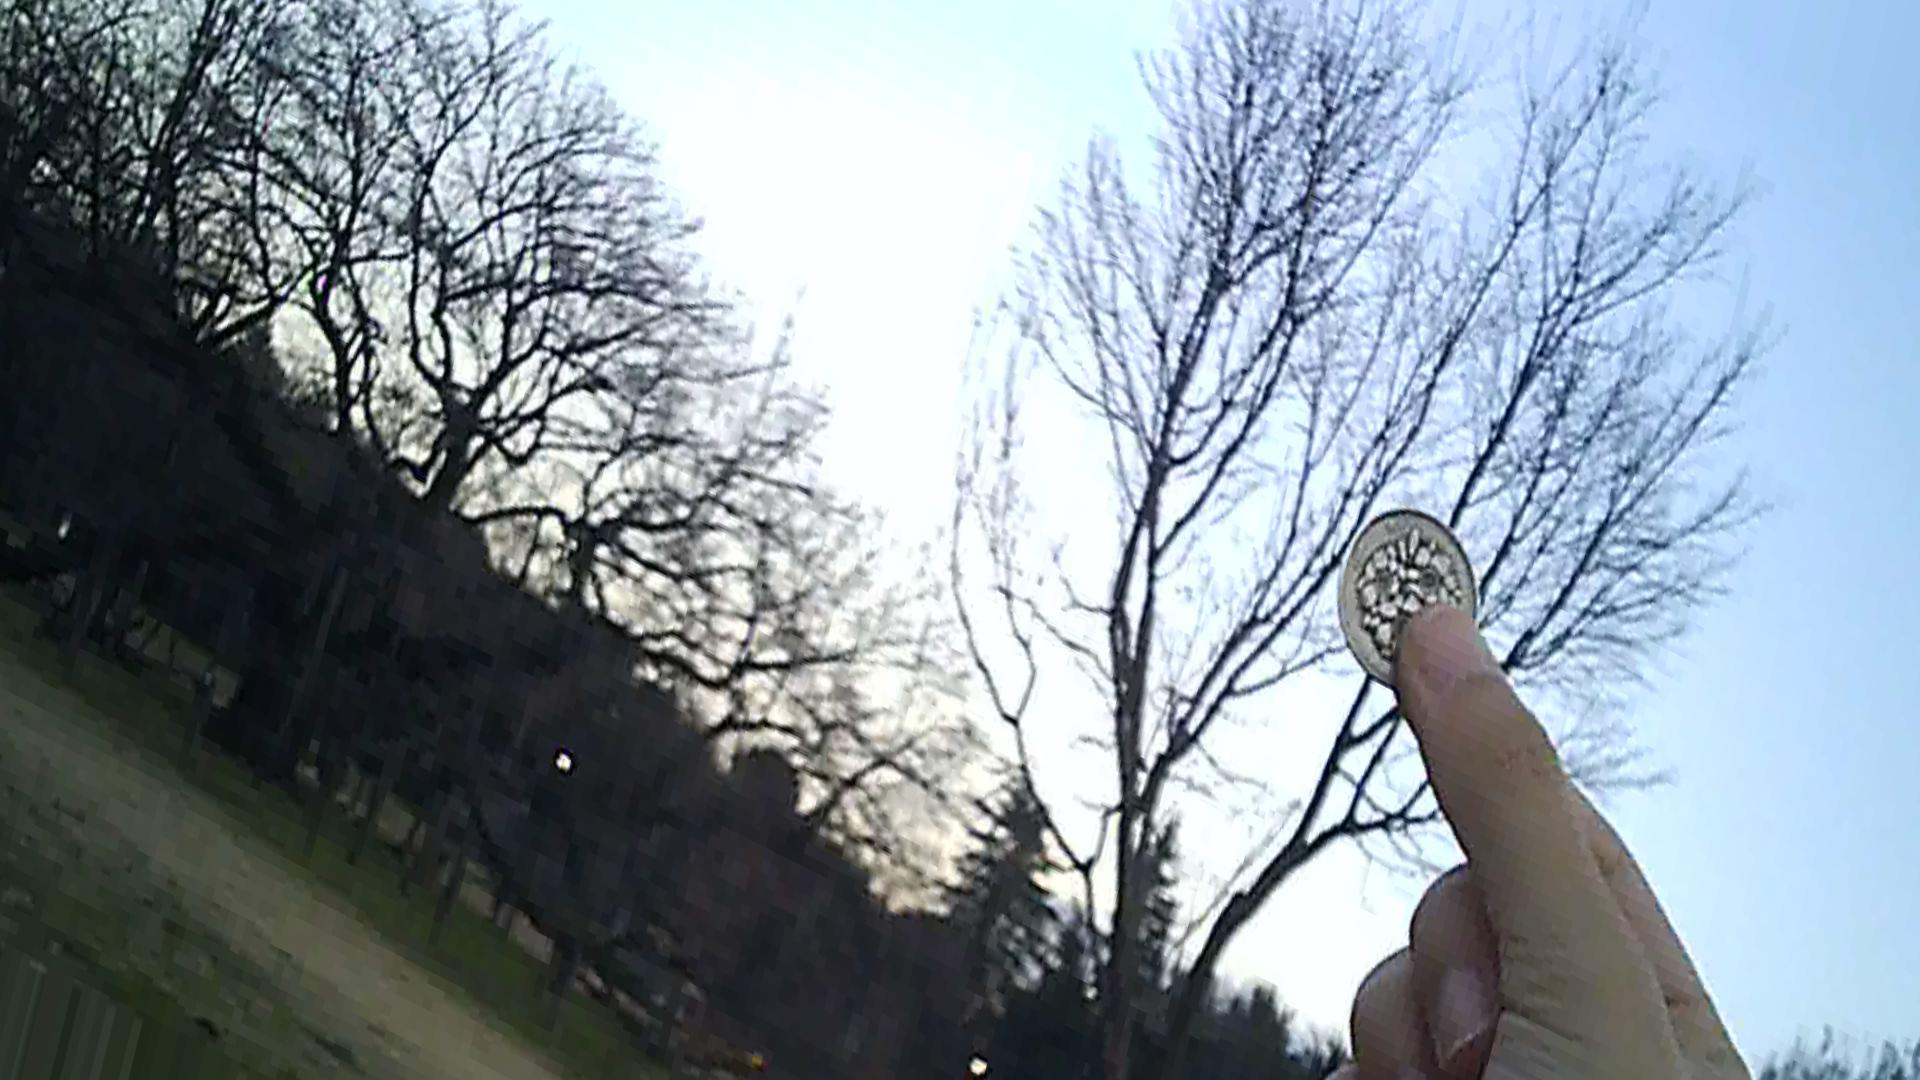100 Yen: (1342, 495, 1482, 682)
